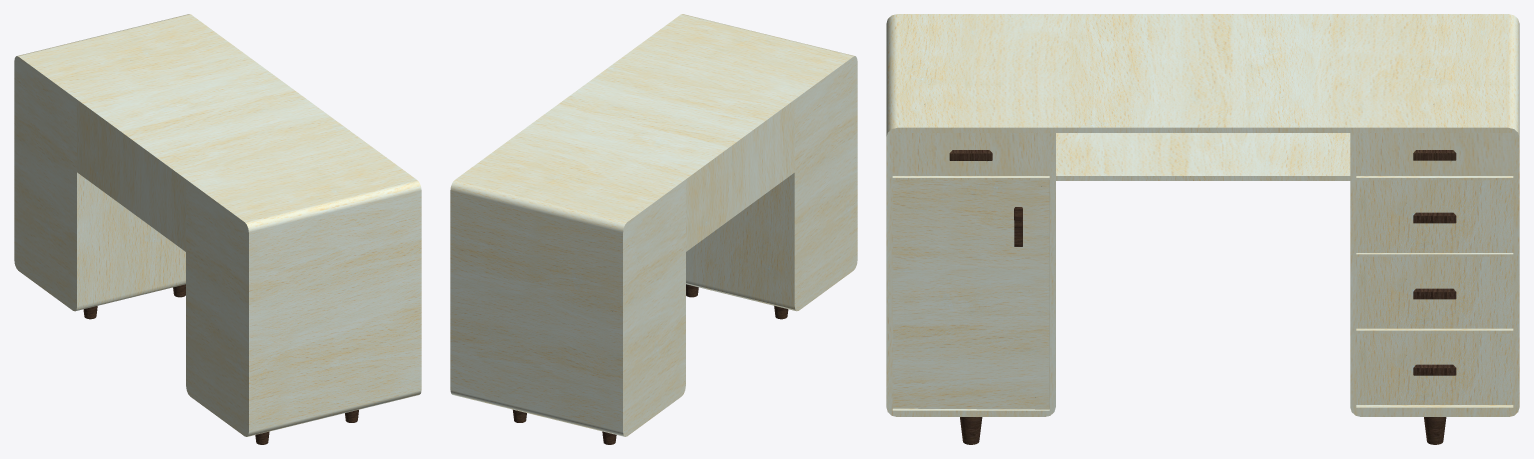
File: desk2022.gltf
3 renders of one model, left to right at view 1: azimuth 30°, elevation 25°; view 2: azimuth 150°, elevation 25°; view 3: azimuth 270°, elevation 25°, orthographic. The views are drawn at different scales.
Visible parts, largest first — view 1: desk_out6; view 2: desk_out6; view 3: desk_out6, leftStorage2, rightDrawer11, rightDrawer12, rightDrawer13, leftDrawer2, rightDrawer10.
Boxes of the visible parts, x1,y1,x2,y2 form: desk_out6: (14, 14, 421, 436); desk_out6: (450, 14, 857, 436); desk_out6: (886, 14, 1519, 416); leftStorage2: (892, 179, 1049, 409); rightDrawer11: (1356, 180, 1513, 252); rightDrawer12: (1356, 256, 1513, 328); rightDrawer13: (1356, 333, 1513, 404); leftDrawer2: (892, 133, 1049, 175); rightDrawer10: (1356, 133, 1513, 175).
Size of the model in its own units: 0.5508 by 0.75 by 1.27.
2 materials, 2 textured.
